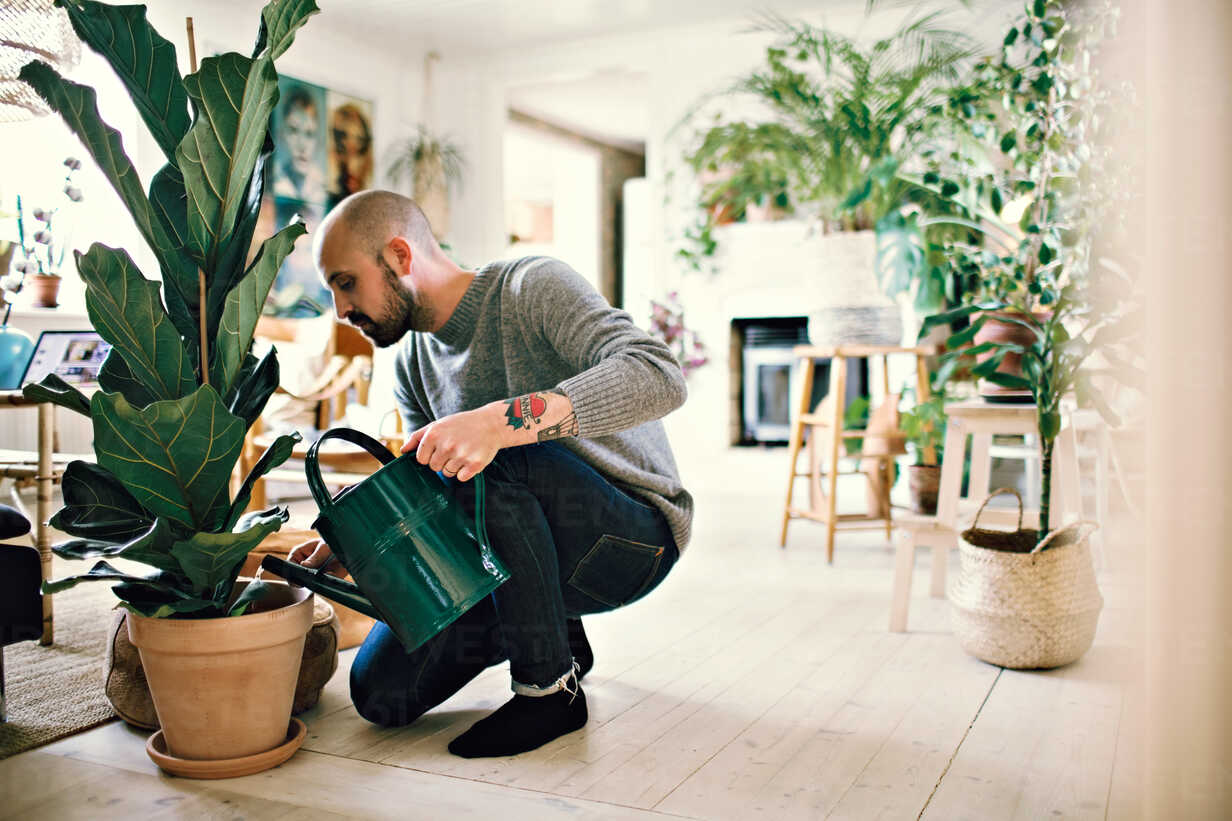tanaman: (73, 10, 282, 753), (924, 9, 1105, 675), (738, 13, 909, 305)
